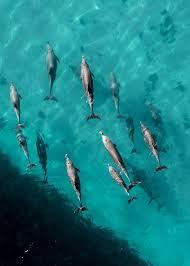Animal: (98, 130, 138, 192), (130, 159, 171, 212), (62, 154, 92, 216), (138, 117, 170, 174), (77, 52, 103, 122), (104, 160, 138, 204), (10, 124, 39, 173), (106, 70, 130, 122), (35, 130, 54, 190), (43, 43, 60, 102), (6, 82, 26, 130)
